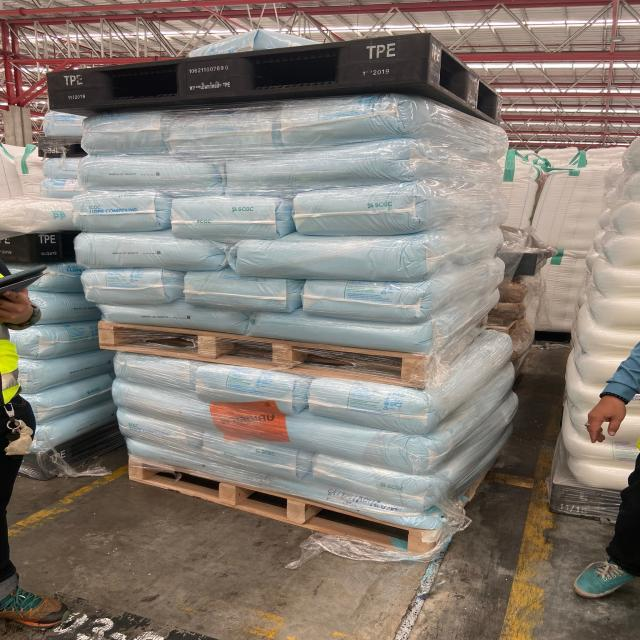gunny_bag: (218, 409, 442, 474), (228, 233, 449, 282), (227, 142, 440, 192), (269, 477, 448, 531), (291, 184, 457, 235), (279, 94, 433, 147), (251, 313, 434, 355), (309, 377, 441, 435), (311, 457, 449, 508), (302, 279, 442, 322), (128, 442, 264, 486), (73, 233, 225, 272), (195, 363, 307, 415), (168, 197, 293, 241), (79, 155, 224, 192), (198, 432, 309, 480), (165, 108, 274, 154), (111, 381, 213, 429), (95, 304, 249, 335), (184, 275, 303, 313), (73, 188, 171, 231), (116, 409, 200, 455), (79, 269, 186, 305), (79, 111, 164, 154), (113, 353, 201, 389)
